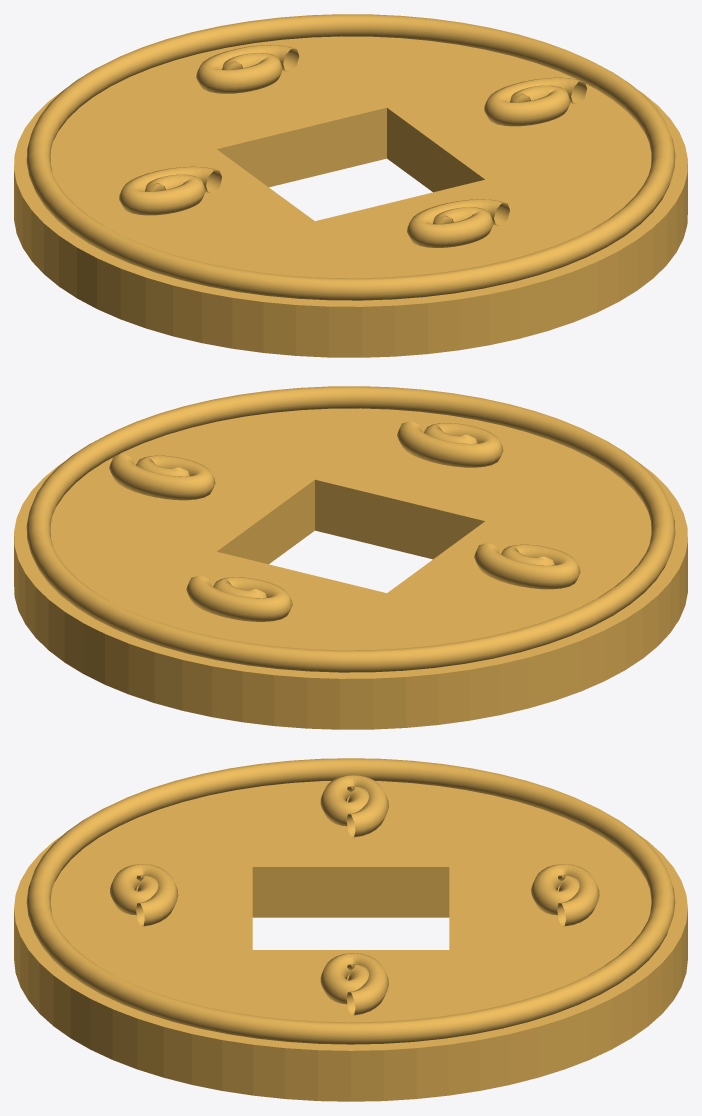
Rendered from prop-coin.glb.
The picture shows the model from 3 angles, top to bottom: view 1: azimuth 30°, elevation 25°; view 2: azimuth 150°, elevation 25°; view 3: azimuth 270°, elevation 25°; orthographic projection.
Visible parts, largest first — view 1: prop-coin; view 2: prop-coin; view 3: prop-coin.
Part boxes in pixels (x1=…): prop-coin: x1=14, y1=14, x2=687, y2=357; prop-coin: x1=14, y1=386, x2=687, y2=729; prop-coin: x1=14, y1=758, x2=687, y2=1101.
Size of the model in its own units: 0.96 by 0.123 by 0.96.
